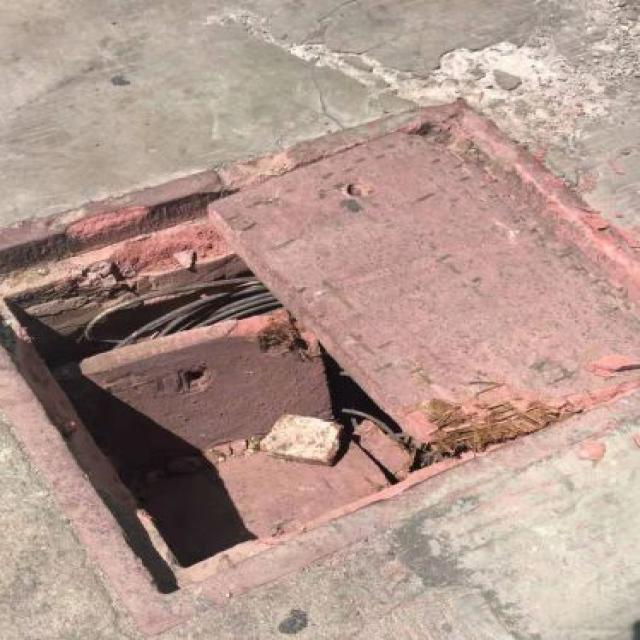manhole: (0, 99, 640, 605)
